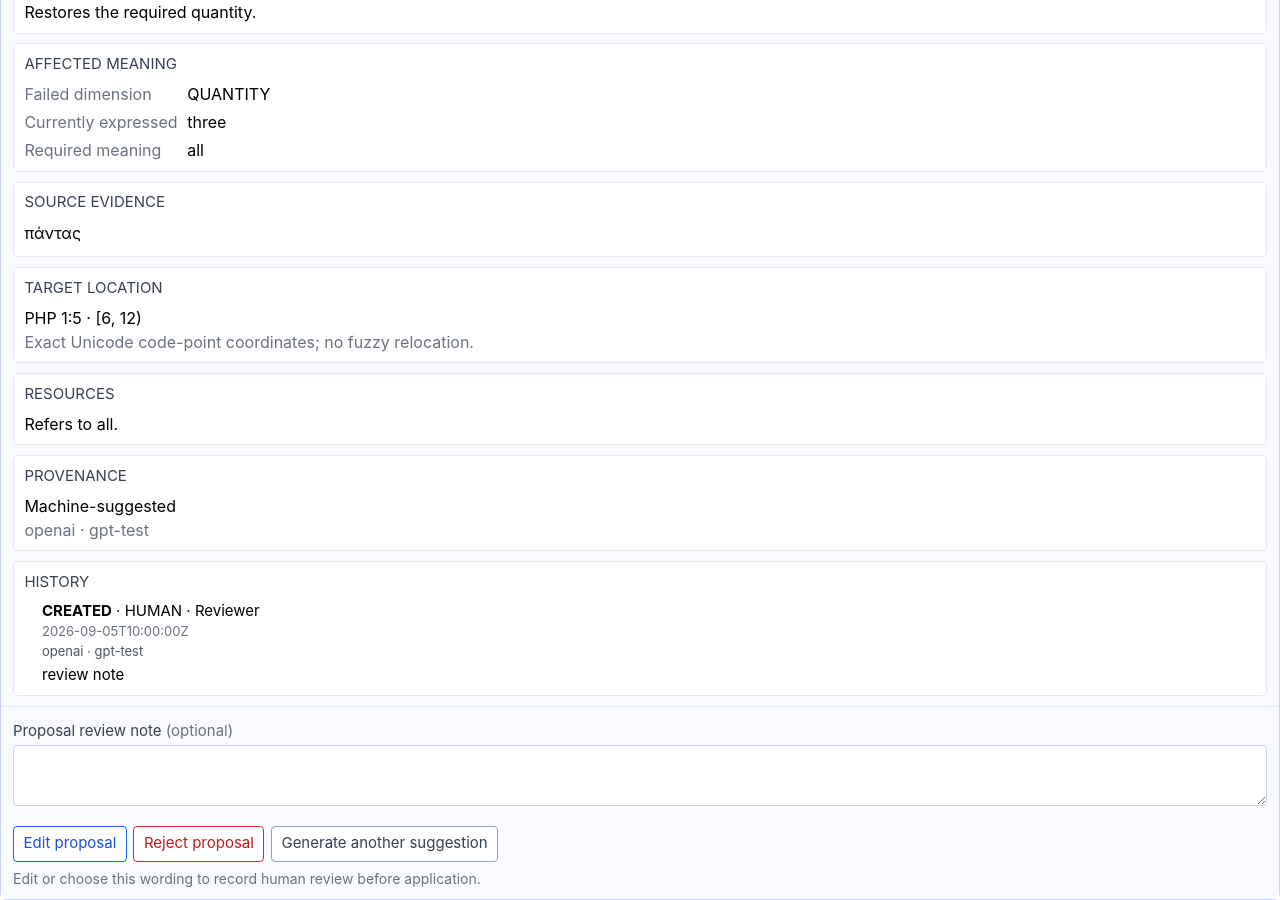
Test: CorrectionReviewPanel › regenerates by superseding and retains the prior proposal
(page scrolled)
Click the button "Generate another suggestion" at (384, 844), box [271,826,498,862]
(page scrolled)
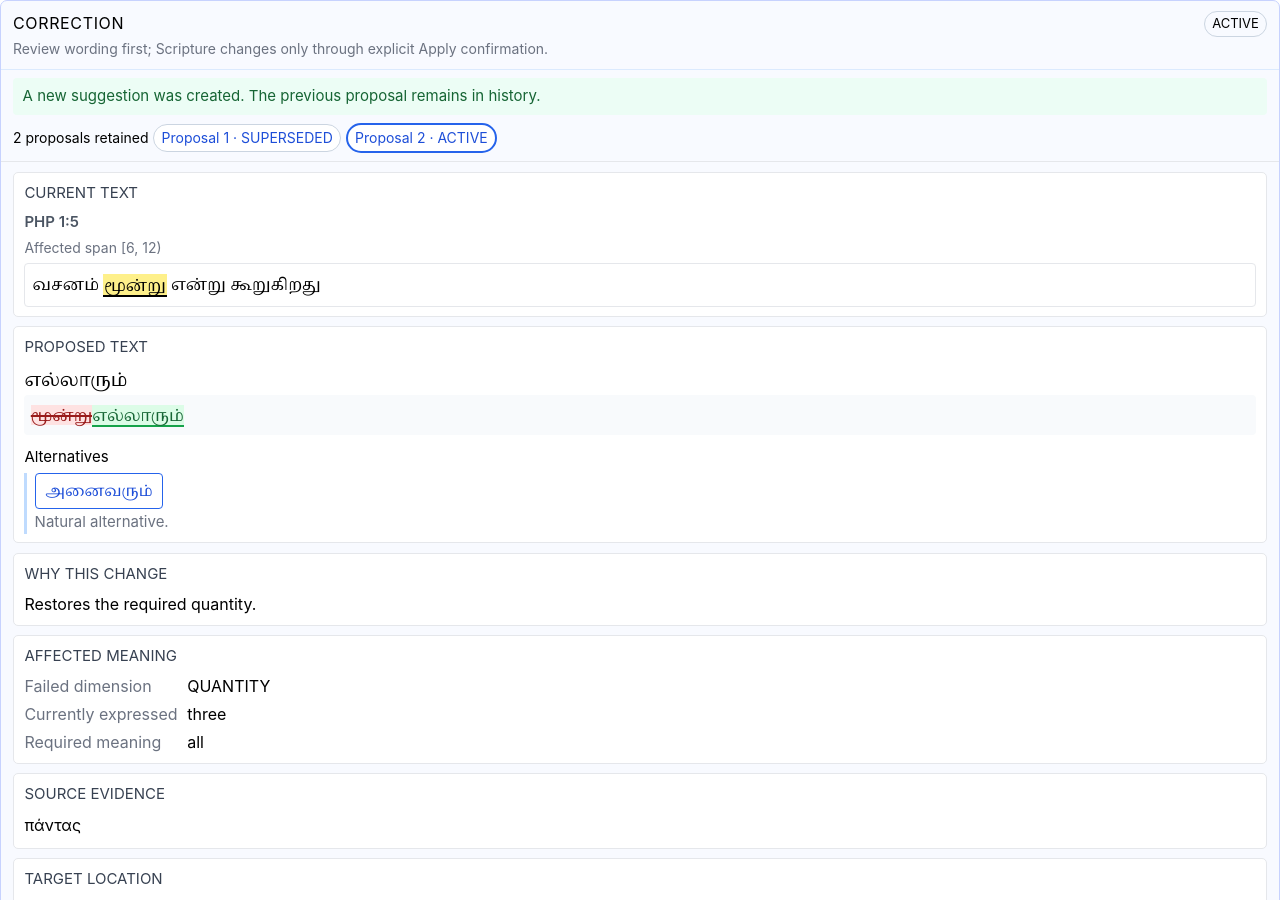
Now the text "2 proposals retained" is shown, box [13,127,148,148]
